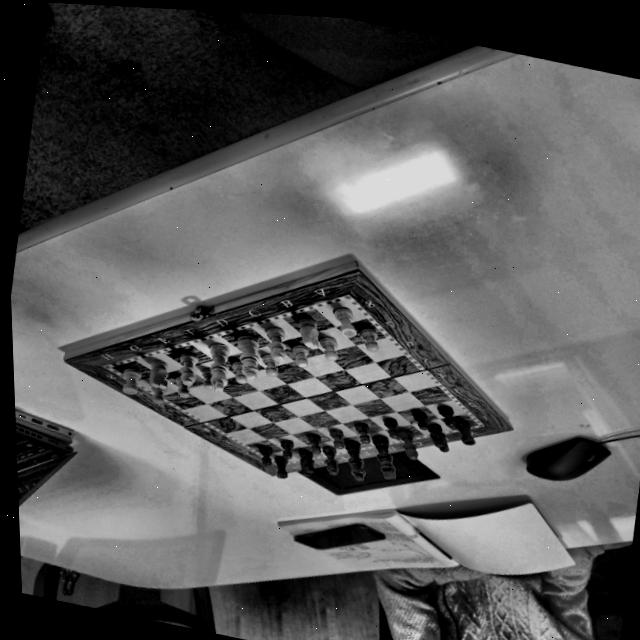black-bishop: (396, 429, 423, 462), (319, 446, 343, 477)
black-king: (367, 433, 405, 483)
black-knight: (426, 423, 453, 453), (296, 449, 319, 479)
black-pawn: (434, 404, 460, 429), (353, 421, 373, 446), (327, 428, 348, 451), (383, 417, 403, 440), (305, 433, 325, 455), (411, 410, 431, 431), (257, 444, 275, 466), (278, 438, 296, 460)
black-queen: (342, 438, 371, 483)
black-rook: (454, 419, 479, 447), (272, 456, 290, 481)
white-bishop: (260, 323, 293, 364), (174, 351, 202, 388)
white-king: (203, 340, 235, 395)
white-knight: (295, 316, 324, 351), (148, 358, 173, 391)
white-pawn: (356, 324, 385, 354), (317, 334, 343, 363), (260, 352, 282, 379), (174, 373, 196, 400), (289, 343, 311, 369), (229, 359, 250, 385), (148, 386, 169, 406), (202, 366, 218, 391)
white-queen: (232, 332, 268, 381)
white-rook: (330, 305, 361, 340), (119, 366, 144, 397)
